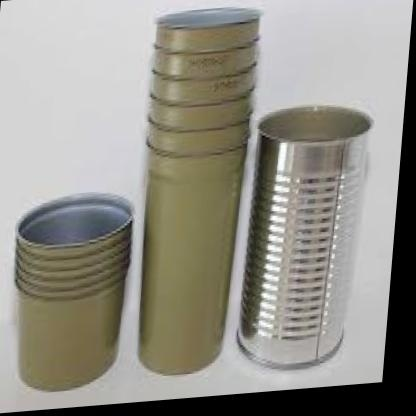trash: (140, 8, 259, 373), (238, 106, 371, 365), (15, 193, 131, 390)
